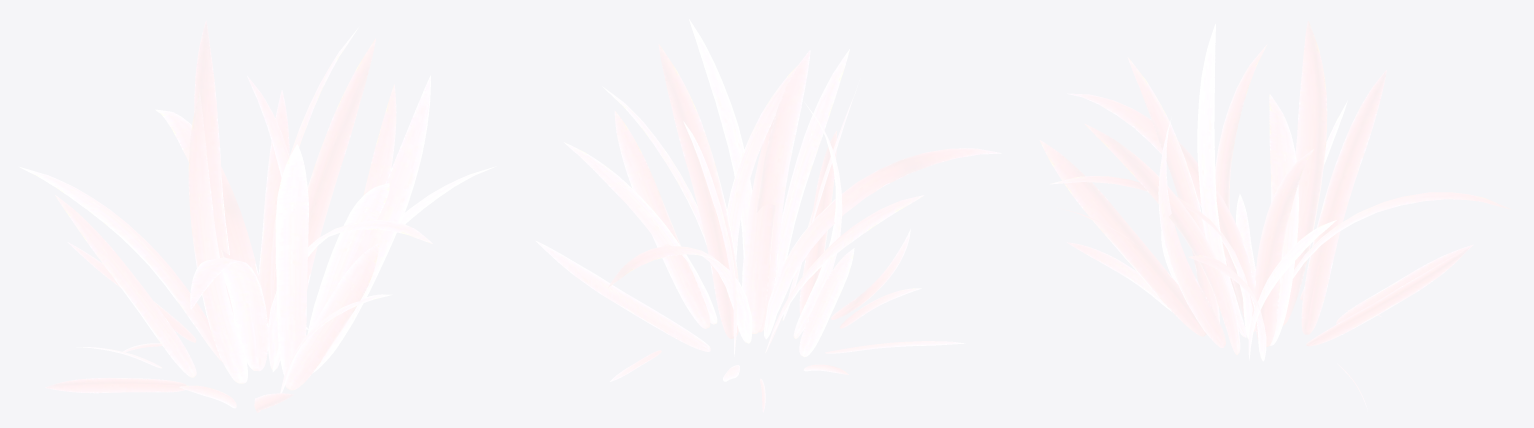
3 renders of one model, left to right at view 1: azimuth 30°, elevation 25°; view 2: azimuth 150°, elevation 25°; view 3: azimuth 270°, elevation 25°, orthographic. The views are drawn at different scales.
Parts seen in each view (by area): view 1: SM_WT_SwampGrass_02_LOD0; view 2: SM_WT_SwampGrass_02_LOD0; view 3: SM_WT_SwampGrass_02_LOD0.
Part boxes in pixels (<box>): SM_WT_SwampGrass_02_LOD0: <box>19,20,496,412</box>; SM_WT_SwampGrass_02_LOD0: <box>536,19,1001,412</box>; SM_WT_SwampGrass_02_LOD0: <box>1039,21,1511,408</box>.
Bounding box in the file's own units: 1.06 × 0.8306 × 1.1.
1 material, 1 textured.
